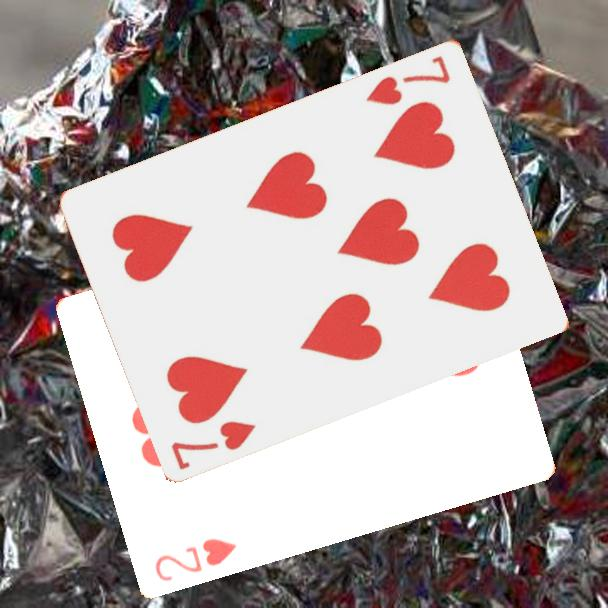h02: (152, 534, 240, 584)
h07: (362, 51, 454, 108), (167, 416, 259, 472)
